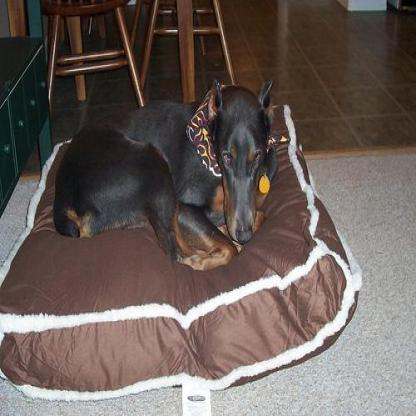Doberman: (50, 74, 278, 271)
